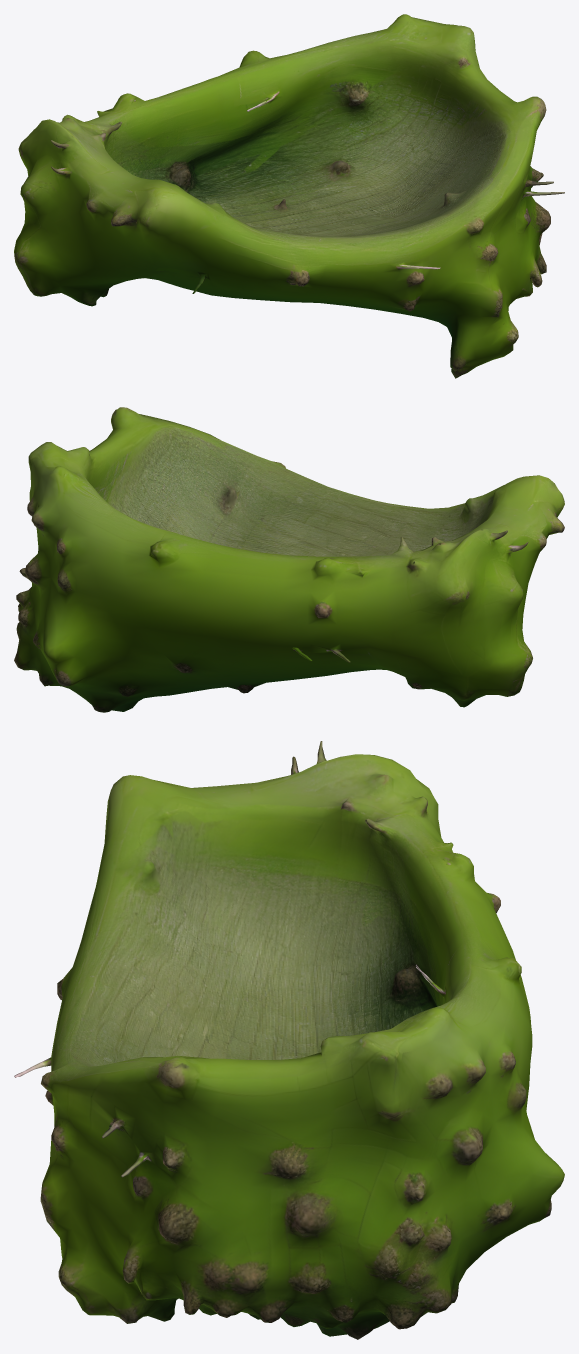
File: cactusSkin.fbx
3 renders of one model, top to bottom at view 1: azimuth 30°, elevation 25°; view 2: azimuth 150°, elevation 25°; view 3: azimuth 270°, elevation 25°, orthographic. The views are drawn at different scales.
Visible parts, largest first — view 1: mesh_rep_0_ori_repair; view 2: mesh_rep_0_ori_repair; view 3: mesh_rep_0_ori_repair.
Boxes of the visible parts, x1,y1,x2,y2 form: mesh_rep_0_ori_repair: [14, 14, 564, 378]; mesh_rep_0_ori_repair: [14, 407, 564, 712]; mesh_rep_0_ori_repair: [14, 741, 564, 1339].
Size of the model in its own units: 112 by 56.44 by 80.63.
